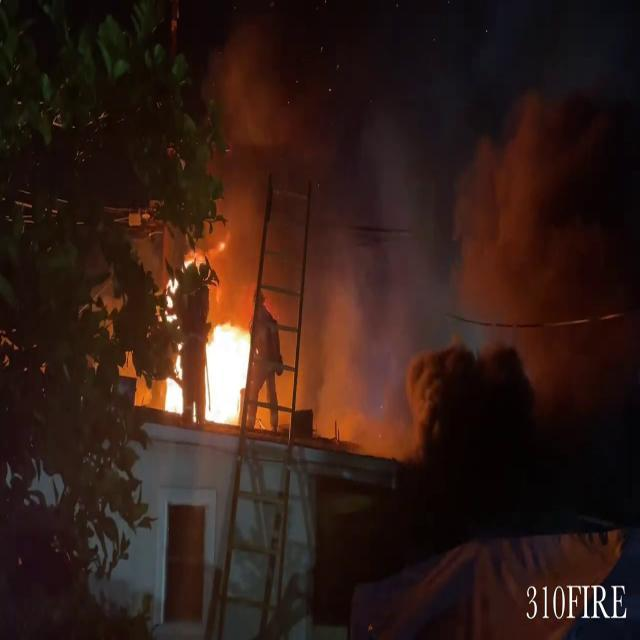Fire: (200, 311, 258, 428)
Smoke: (198, 12, 636, 440)
